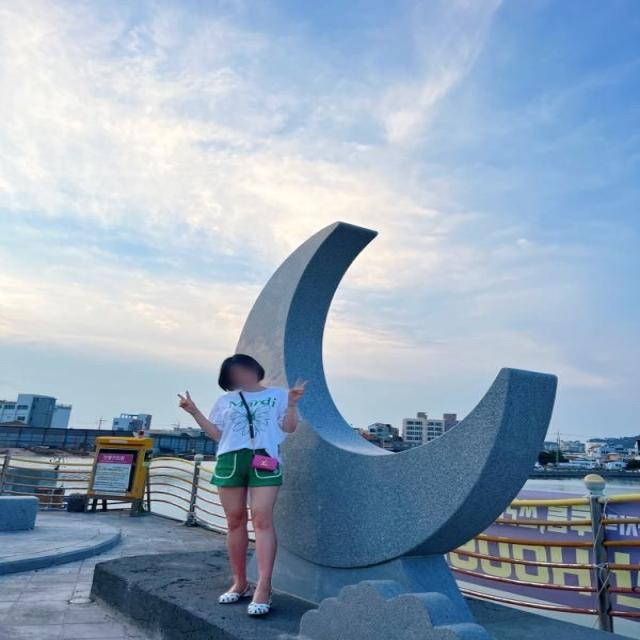shortpants: (213, 447, 283, 492)
shortsleeve: (208, 381, 289, 453)
